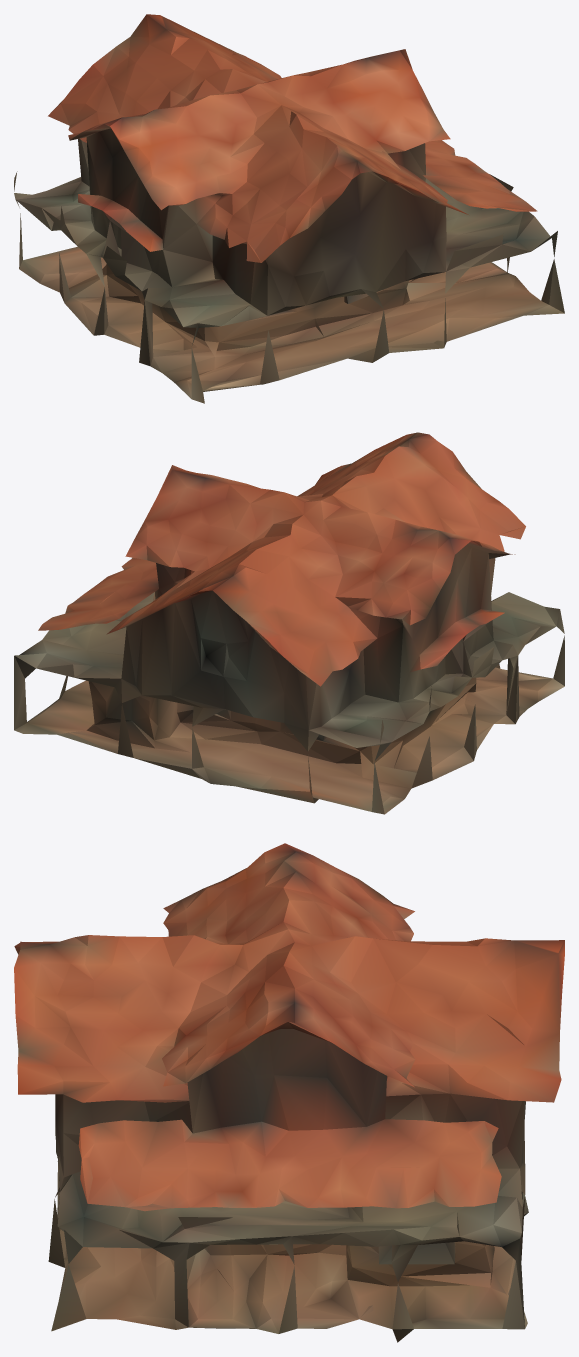
File: bq_rural_house.vc2.glb
The picture shows the model from 3 angles, top to bottom: view 1: azimuth 30°, elevation 25°; view 2: azimuth 150°, elevation 25°; view 3: azimuth 270°, elevation 25°; orthographic projection. The views are drawn at different scales.
Visible parts, largest first — view 1: bq_rural_house; view 2: bq_rural_house; view 3: bq_rural_house.
Part boxes in pixels (<box>): bq_rural_house: <box>14,14,564,403</box>; bq_rural_house: <box>14,432,564,814</box>; bq_rural_house: <box>14,843,564,1342</box>.
Bounding box in the file's own units: 1.88 × 1.09 × 1.89.
